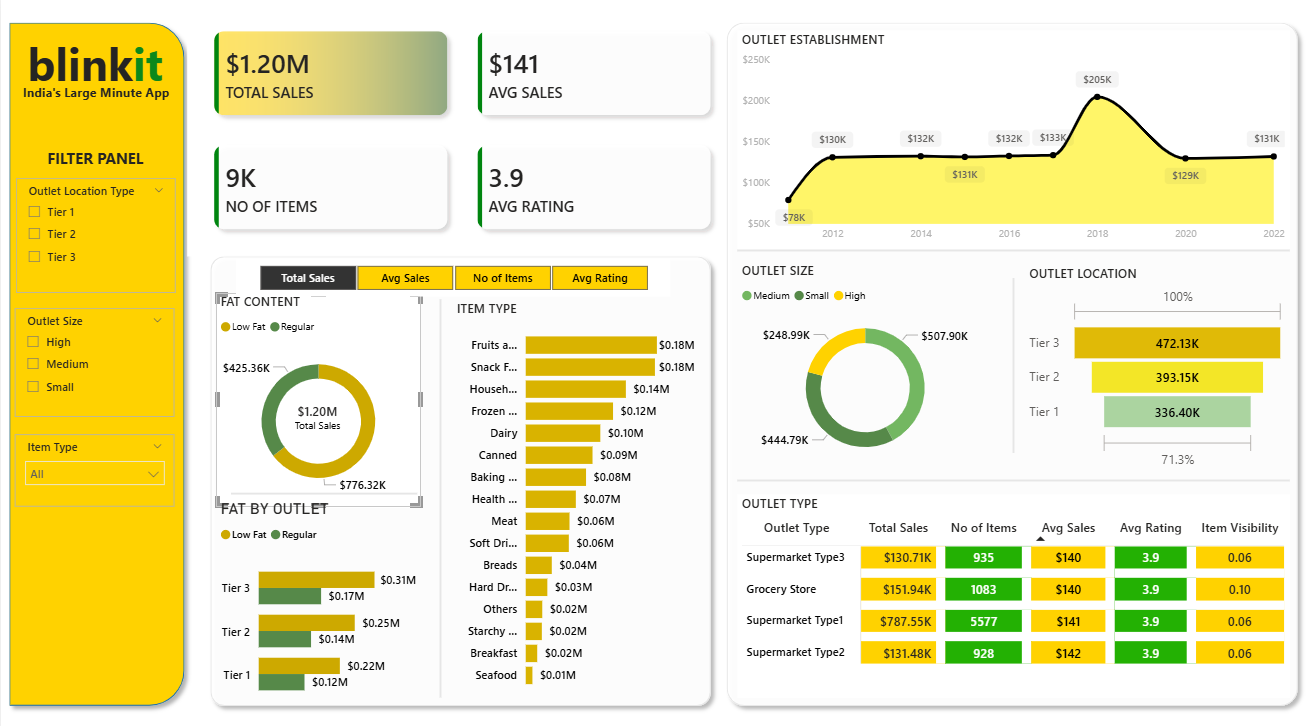

The page's visual inventory and layout, read from the dashboard file:
{"tool":"powerbi","page":{"name":"Page 1","canvas":[1400,800],"ordinal":0},"visuals":[{"type":"shape","box":[0,22.5,205.6,750.4],"z":0},{"type":"textbox","box":[19.5,37.5,162.1,76.5],"z":1000},{"type":"textbox","box":[6,93.1,193.6,31.5],"z":2000},{"type":"cardVisual","fields":{"Data":["BlinkIT Grocery Data (2).Total Sales","BlinkIT Grocery Data (2).Avg Sales","BlinkIT Grocery Data (2).No of Items","BlinkIT Grocery Data (2).Avg Rating"]},"box":[200,11.4,590,270],"z":3000},{"type":"shape","box":[215.7,272.9,554.3,500],"z":4000},{"type":"donutChart","title":"FAT CONTENT","fields":{"Y":["BlinkIT Grocery Data (2).Total Sales"],"Category":["BlinkIT Grocery Data (2).Item Fat Content"]},"box":[230,321.4,220,230],"z":5000},{"type":"slicer","title":"FAT","fields":{"Values":["Metrics.Metrics"]},"box":[251.4,285.7,465.7,40],"z":6000},{"type":"cardVisual","fields":{"Data":["BlinkIT Grocery Data (2).Total Sales"]},"box":[289.5,415.6,100.5,77.7],"z":7000},{"type":"clusteredBarChart","title":"FAT BY OUTLET","fields":{"Y":["BlinkIT Grocery Data (2).Total Sales"],"Category":["BlinkIT Grocery Data (2).Outlet Location Type"],"Series":["BlinkIT Grocery Data (2).Item Fat Content"]},"box":[230,542.9,220,230],"z":8000},{"type":"shape","box":[246.7,522.8,199.7,28.2],"z":9000},{"type":"shape","box":[458.6,328.6,25.7,427.1],"z":10000},{"type":"barChart","title":"ITEM TYPE","fields":{"Y":["BlinkIT Grocery Data (2).Total Sales"],"Category":["BlinkIT Grocery Data (2).Item Type"]},"box":[483.9,328.4,265.4,427.6],"z":11000},{"type":"shape","box":[769.4,22.8,630,750.7],"z":12000},{"type":"lineChart","title":"OUTLET ESTABLISHMENT","fields":{"Category":["BlinkIT Grocery Data (2).Outlet Establishment Year"],"Y":["BlinkIT Grocery Data (2).Total Sales"]},"box":[789.5,40.2,592.5,234.6],"z":13000},{"type":"shape","box":[789.5,266.8,592.5,18.8],"z":14000},{"type":"donutChart","title":"OUTLET SIZE","fields":{"Y":["BlinkIT Grocery Data (2).Total Sales"],"Category":["BlinkIT Grocery Data (2).Outlet Size"]},"box":[789.5,288.2,274.8,225.2],"z":15000},{"type":"shape","box":[1073.7,305.6,24.1,187.7],"z":16000},{"type":"funnel","title":"OUTLET LOCATION","fields":{"Category":["BlinkIT Grocery Data (2).Outlet Location Type"],"Y":["Sum(BlinkIT Grocery Data (2).Sales)"]},"box":[1097.9,290.9,284.2,225.2],"z":17000},{"type":"shape","box":[789.5,513.4,592.5,18.8],"z":18000},{"type":"pivotTable","title":"OUTLET TYPE","fields":{"Rows":["BlinkIT Grocery Data (2).Outlet Type"],"Values":["BlinkIT Grocery Data (2).Total Sales","BlinkIT Grocery Data (2).No of Items","BlinkIT Grocery Data (2).Avg Sales","BlinkIT Grocery Data (2).Avg Rating","Avg(BlinkIT Grocery Data (2).Item Visibility)"]},"box":[789.5,537.5,592.5,218.5],"z":19000},{"type":"slicer","fields":{"Values":["BlinkIT Grocery Data (2).Outlet Location Type"]},"box":[16.1,198.4,171.6,123.3],"z":20000},{"type":"slicer","fields":{"Values":["BlinkIT Grocery Data (2).Outlet Size"]},"box":[14.7,337.8,171.6,116.6],"z":21000},{"type":"slicer","fields":{"Values":["BlinkIT Grocery Data (2).Item Type"]},"box":[14.7,473.2,171.6,77.7],"z":22000},{"type":"textbox","box":[14.7,160.9,172.9,37.5],"z":23000}]}

Visuals, with their boxes in screenshot pixels (x1, y1, x2, y2), scaled from the page's 1400x800 canvas onto the 1307x726 screenshot:
shape: crop(0, 20, 192, 701)
textbox: crop(18, 34, 170, 103)
textbox: crop(6, 84, 186, 113)
cardVisual - BlinkIT Grocery Data (2).Total Sales x BlinkIT Grocery Data (2).Avg Sales: crop(187, 10, 738, 255)
shape: crop(201, 248, 719, 701)
"FAT CONTENT" donutChart: crop(215, 292, 420, 500)
"FAT" slicer: crop(235, 259, 669, 296)
cardVisual - BlinkIT Grocery Data (2).Total Sales: crop(270, 377, 364, 448)
"FAT BY OUTLET" clusteredBarChart: crop(215, 493, 420, 701)
shape: crop(230, 474, 417, 500)
shape: crop(428, 298, 452, 686)
"ITEM TYPE" barChart: crop(452, 298, 700, 686)
shape: crop(718, 21, 1306, 702)
"OUTLET ESTABLISHMENT" lineChart: crop(737, 36, 1290, 249)
shape: crop(737, 242, 1290, 259)
"OUTLET SIZE" donutChart: crop(737, 262, 994, 466)
shape: crop(1002, 277, 1025, 448)
"OUTLET LOCATION" funnel: crop(1025, 264, 1290, 468)
shape: crop(737, 466, 1290, 483)
"OUTLET TYPE" pivotTable: crop(737, 488, 1290, 686)
slicer - BlinkIT Grocery Data (2).Outlet Location Type: crop(15, 180, 175, 292)
slicer - BlinkIT Grocery Data (2).Outlet Size: crop(14, 307, 174, 412)
slicer - BlinkIT Grocery Data (2).Item Type: crop(14, 429, 174, 500)
textbox: crop(14, 146, 175, 180)
